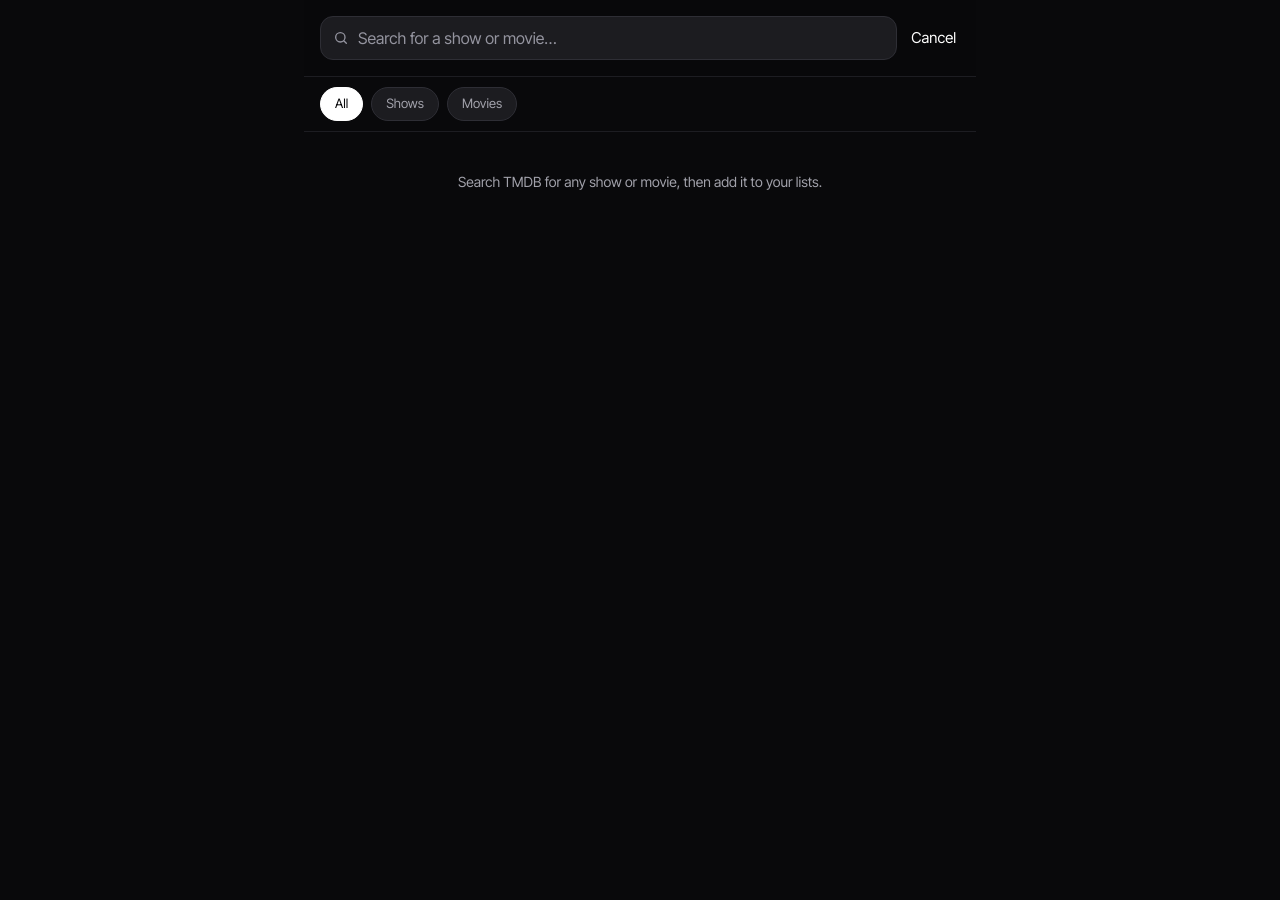
Test: the field › names the query when nothing matches
Type "zzzz" into the field named "Search query" at coordinates (621, 38), box [358, 26, 884, 50]
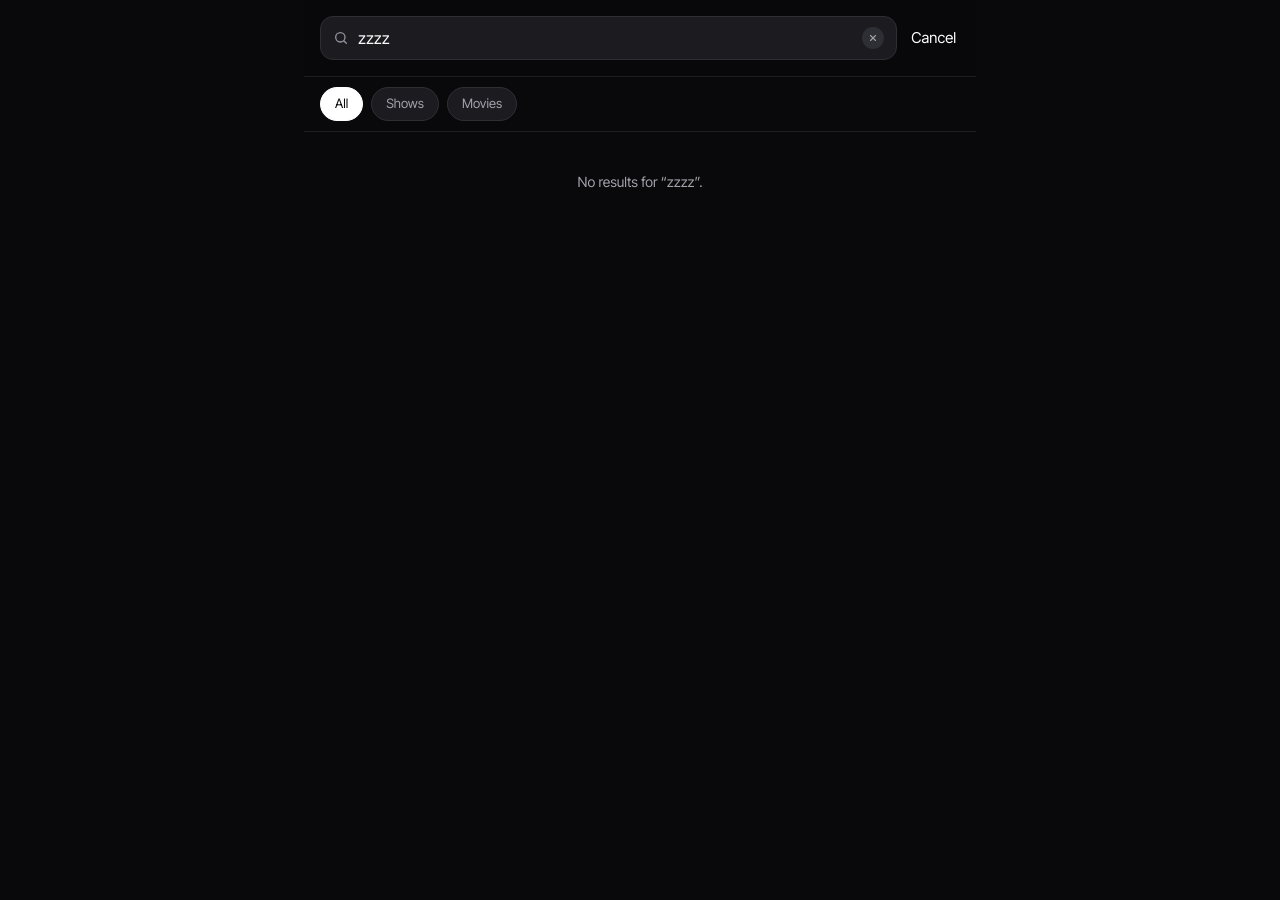
Check: the text "No results for “zzzz”." is shown, box [578, 173, 702, 190]
